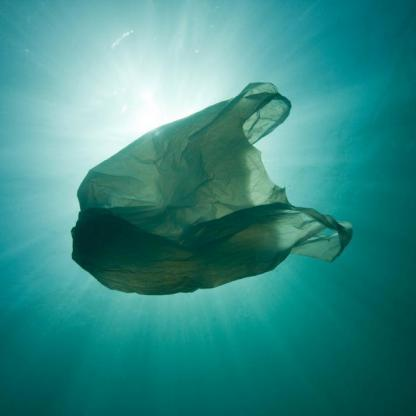Rác: (69, 75, 363, 304)
